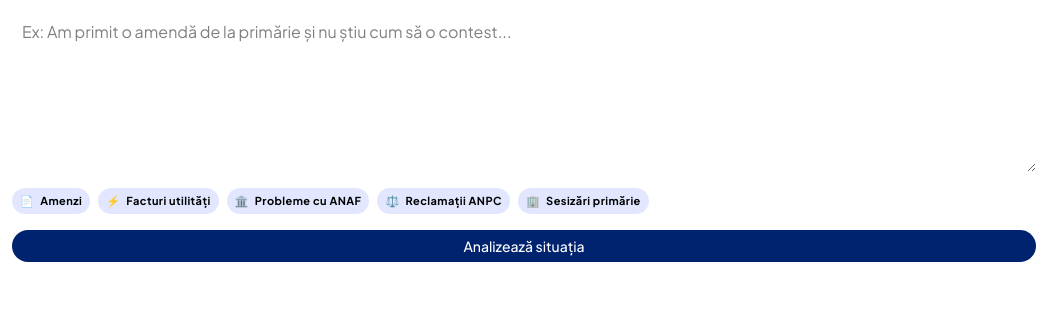
it: ProblemInput › shows the too-short validation message under 15 characters and disables submit
Type "am o problema" into the text box named "Descrierea problemei". click: coordinates (524, 92)
box: [12,12,1036,172]
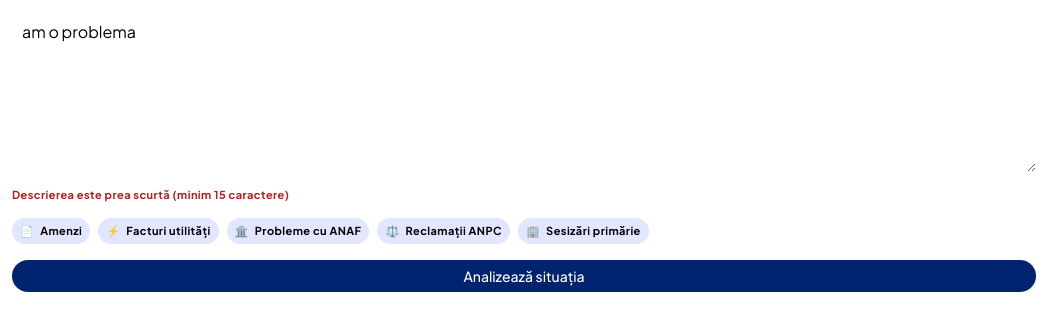
Expected: the button "Analizează situația" is disabled, [12,260,1036,292]
Now the text "Descrierea este prea scurtă (minim 15 caractere)" is shown, box [12,188,289,201]
